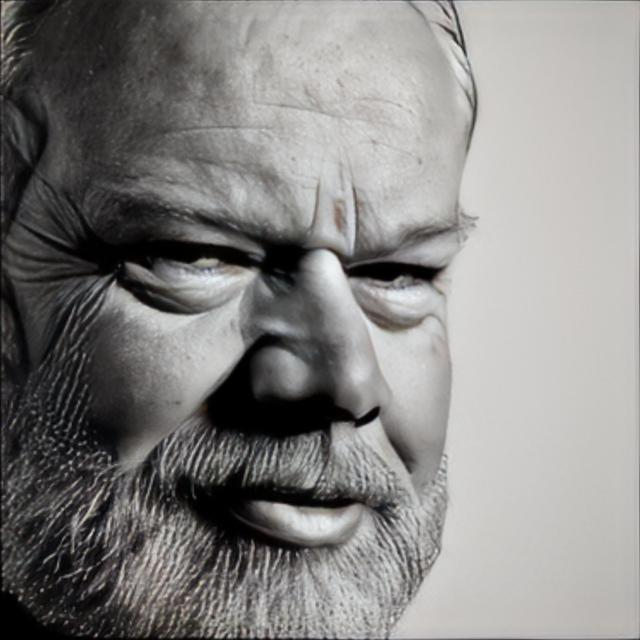happy: (43, 63, 479, 599)
